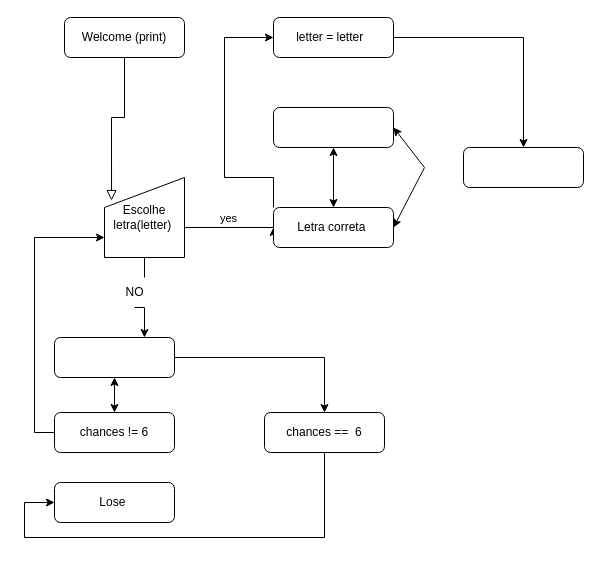
Some shapes in this 601 by 563 pixel diagram are drawn without their labels. Here are the shapes that lost their labels. From the top down, the box of each, then its label:
(272, 106, 394, 148): letter != letter
(462, 146, 584, 188): win
(54, 336, 174, 378): lost life
